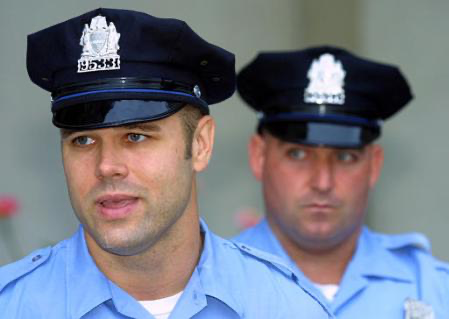Face: (56, 105, 197, 260), (258, 121, 380, 254)
